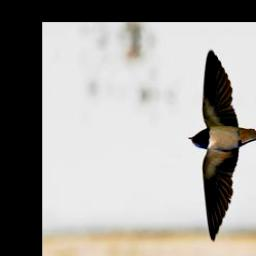Swallow: (187, 45, 256, 245)
